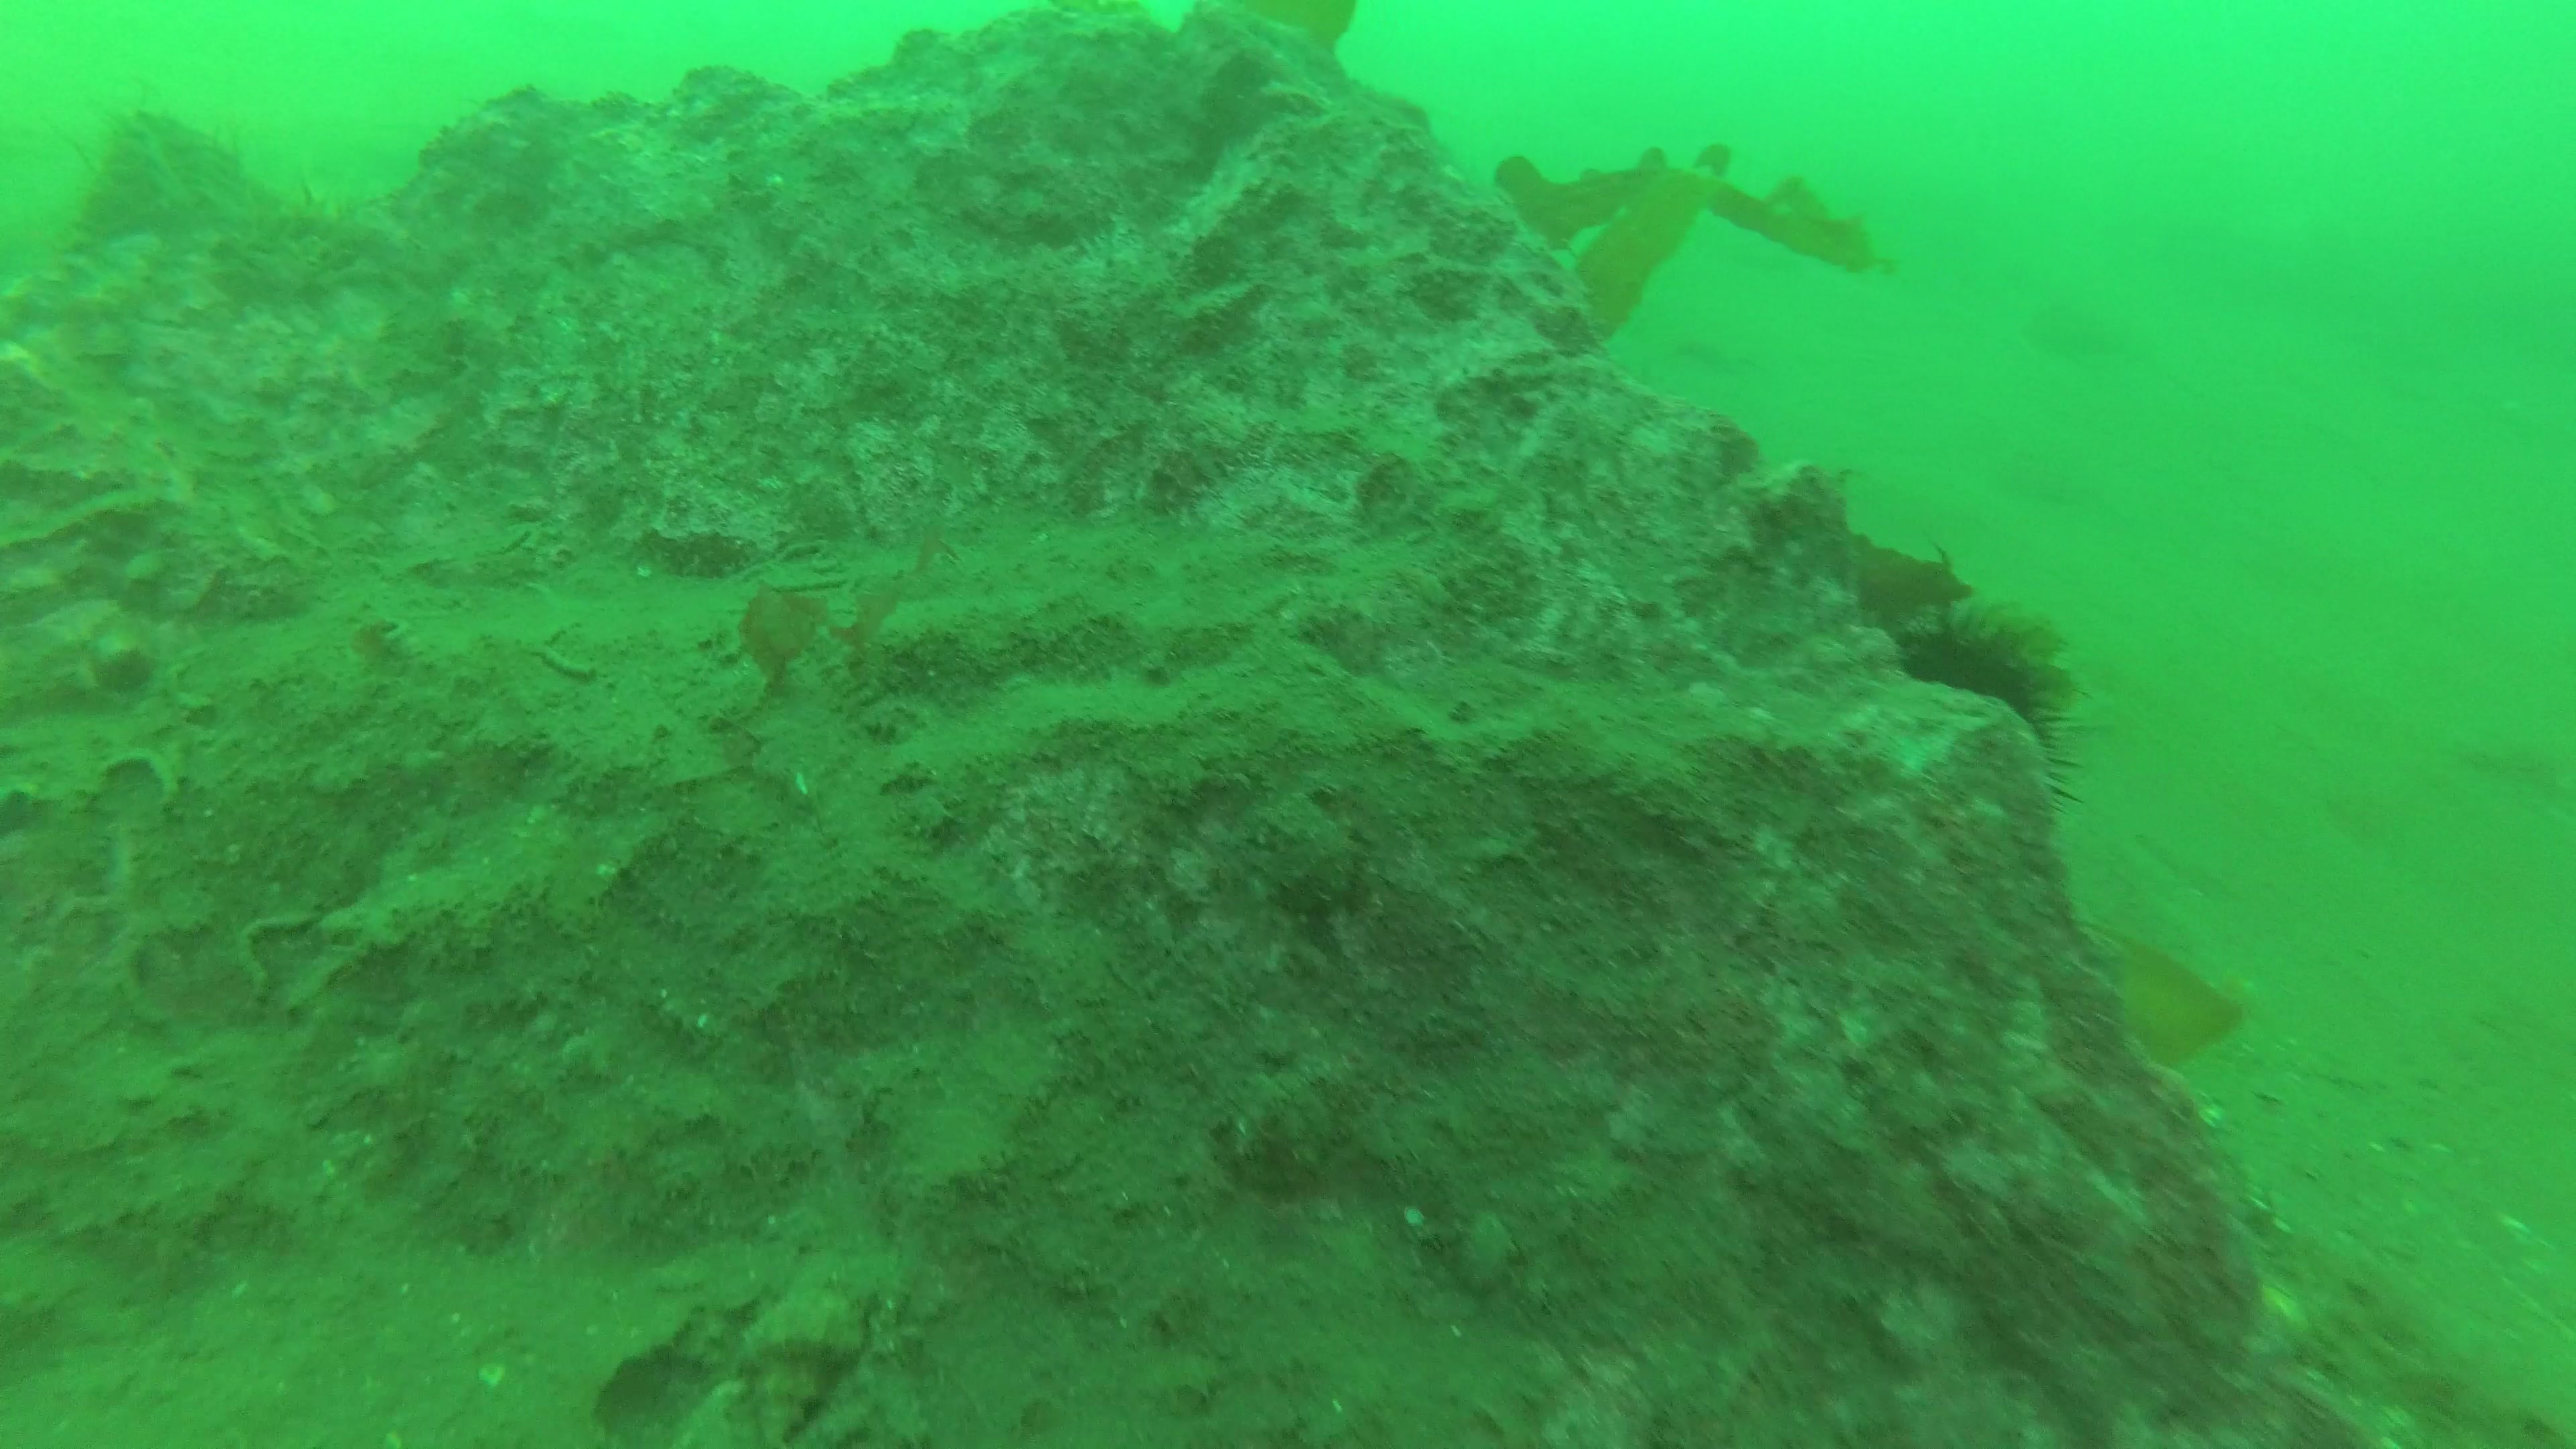echinus: (1879, 593, 2089, 819)
